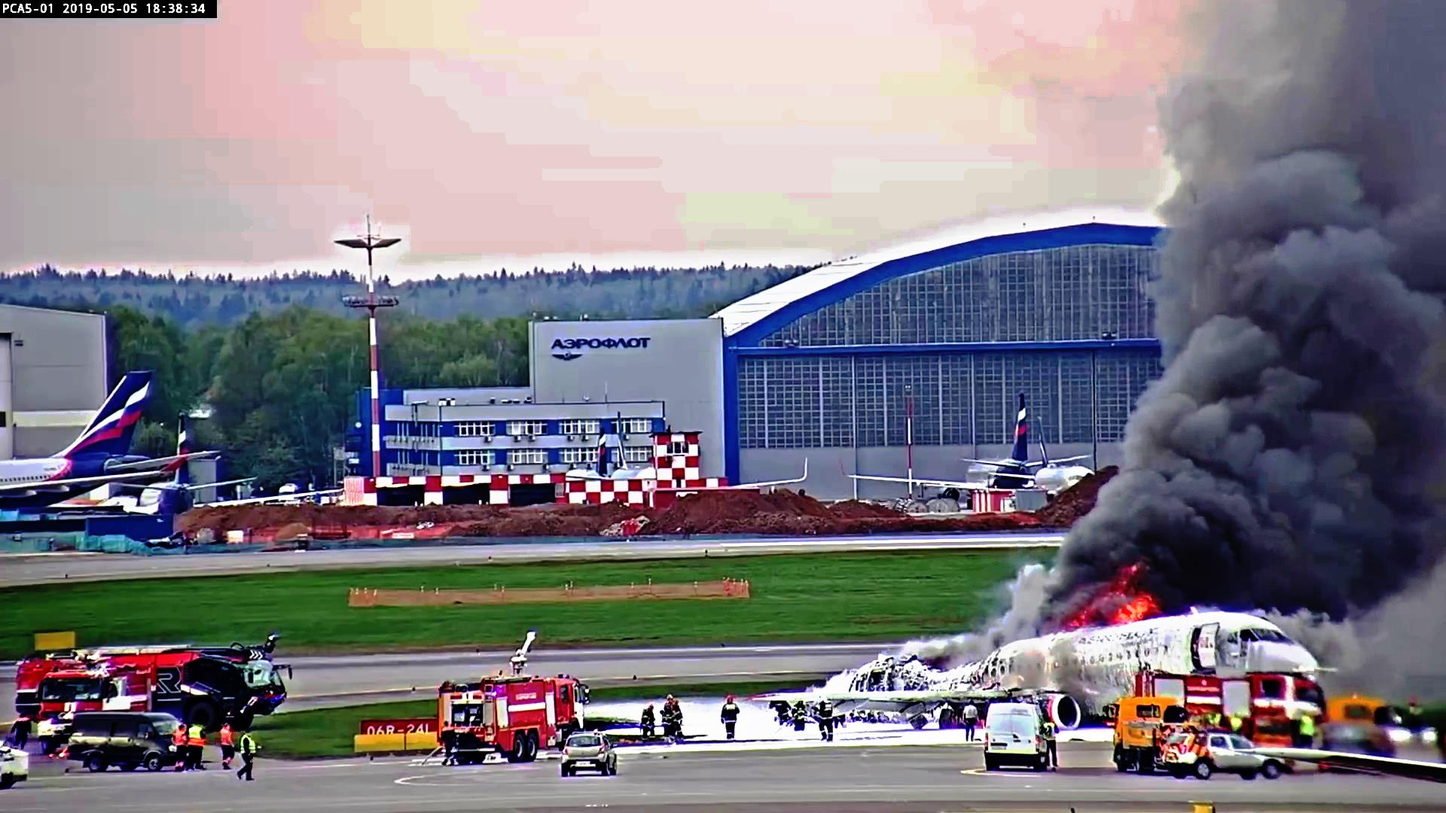fire: (1087, 572, 1153, 620)
smoke: (1164, 7, 1446, 567)
